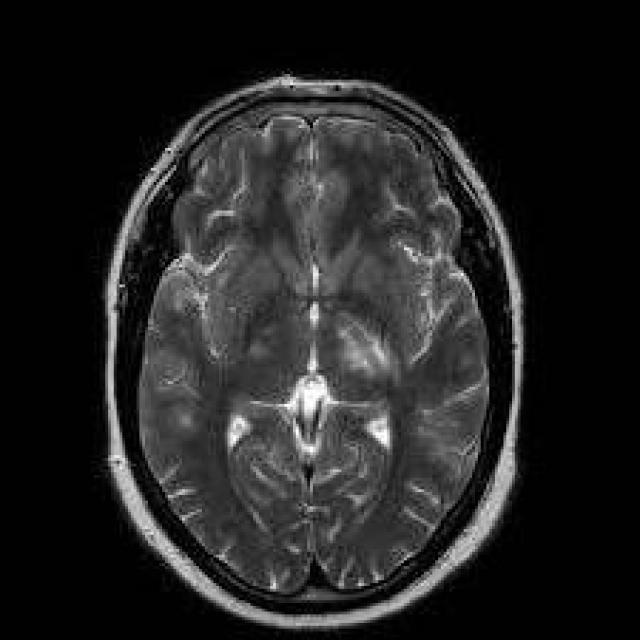notumor: (105, 77, 521, 634)
